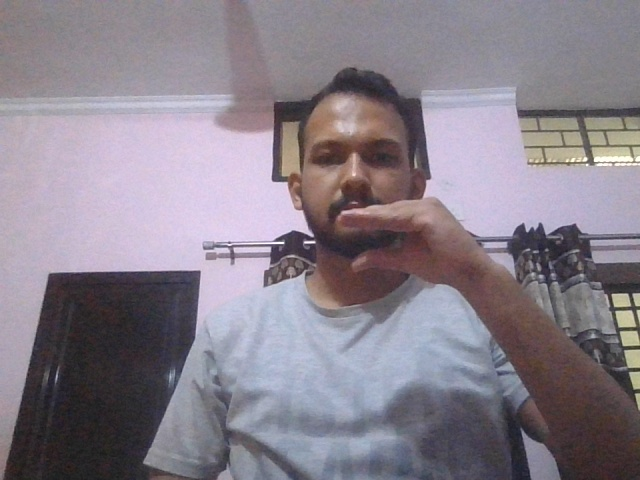no: (338, 197, 490, 286)
